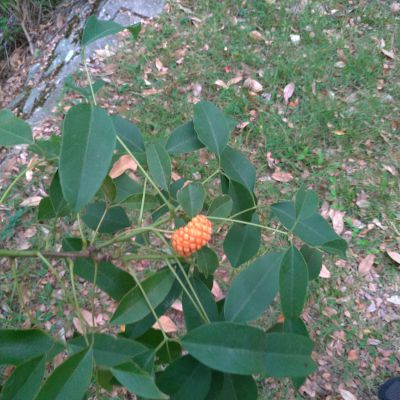eggs: (166, 213, 215, 256)
